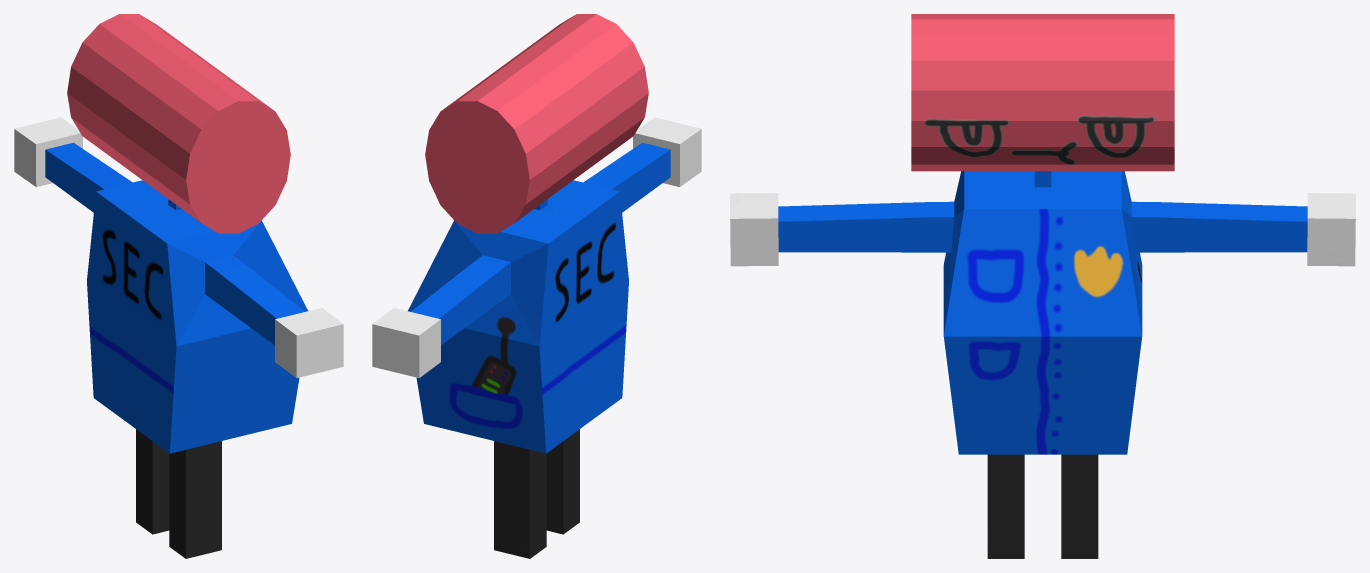
Rendered from test guard.fbx.
3 views of the same model, side by side, from view 1: azimuth 30°, elevation 25°; view 2: azimuth 150°, elevation 25°; view 3: azimuth 270°, elevation 25° (orthographic). The views are drawn at different scales.
Visible parts, largest first — view 1: body.002, Cylinder.001; view 2: body.002, Cylinder.001; view 3: body.002, Cylinder.001.
Boxes of the visible parts, <box> form: body.002: <box>14,117,343,558</box>; Cylinder.001: <box>67,14,290,233</box>; body.002: <box>372,117,701,558</box>; Cylinder.001: <box>425,14,648,233</box>; body.002: <box>730,171,1355,558</box>; Cylinder.001: <box>911,14,1174,171</box>.
Size of the model in its own units: 111 by 367 by 393.
2 materials, 2 textured.
